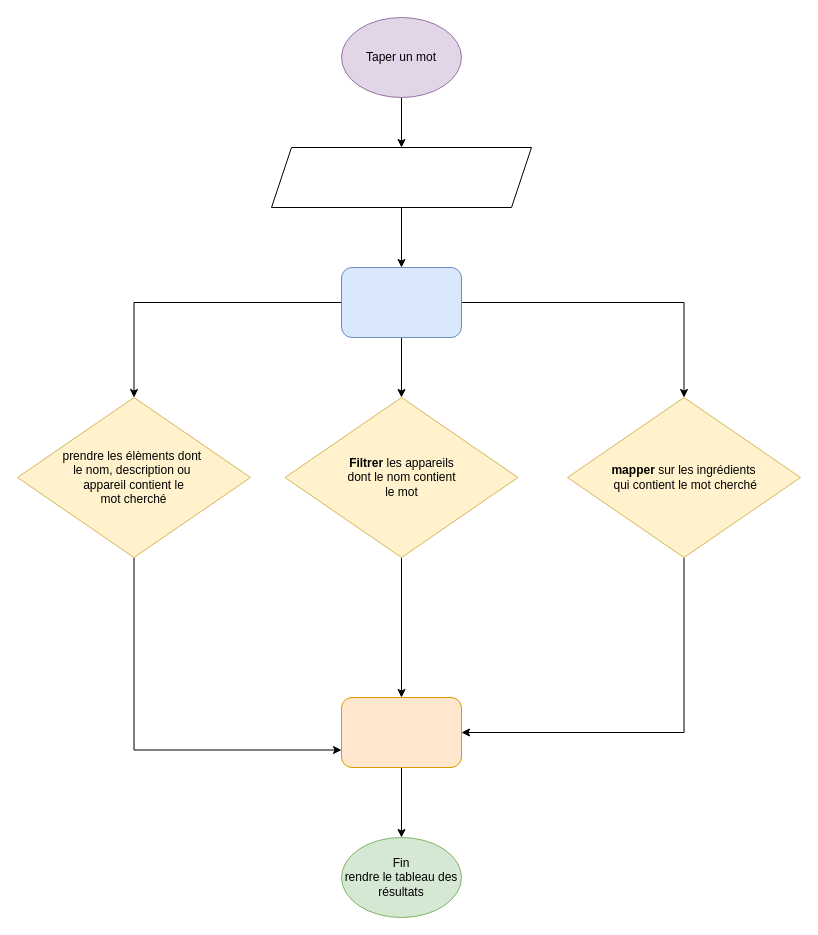
Image size: 818x935. Some labels were removed from this diagram. The shapes that lost their labels are listed below. From the top down, each one's box as (x1, y1, x2, y2) in pixels, then its label:
(270, 146, 532, 208): prendre en argument le tableau des receipes et le mot cherché
(340, 266, 462, 338): Mapper sur les éléments de tableau recipes.map(...)
(340, 696, 462, 768): Ajouter les éléments qui respect les conditions
